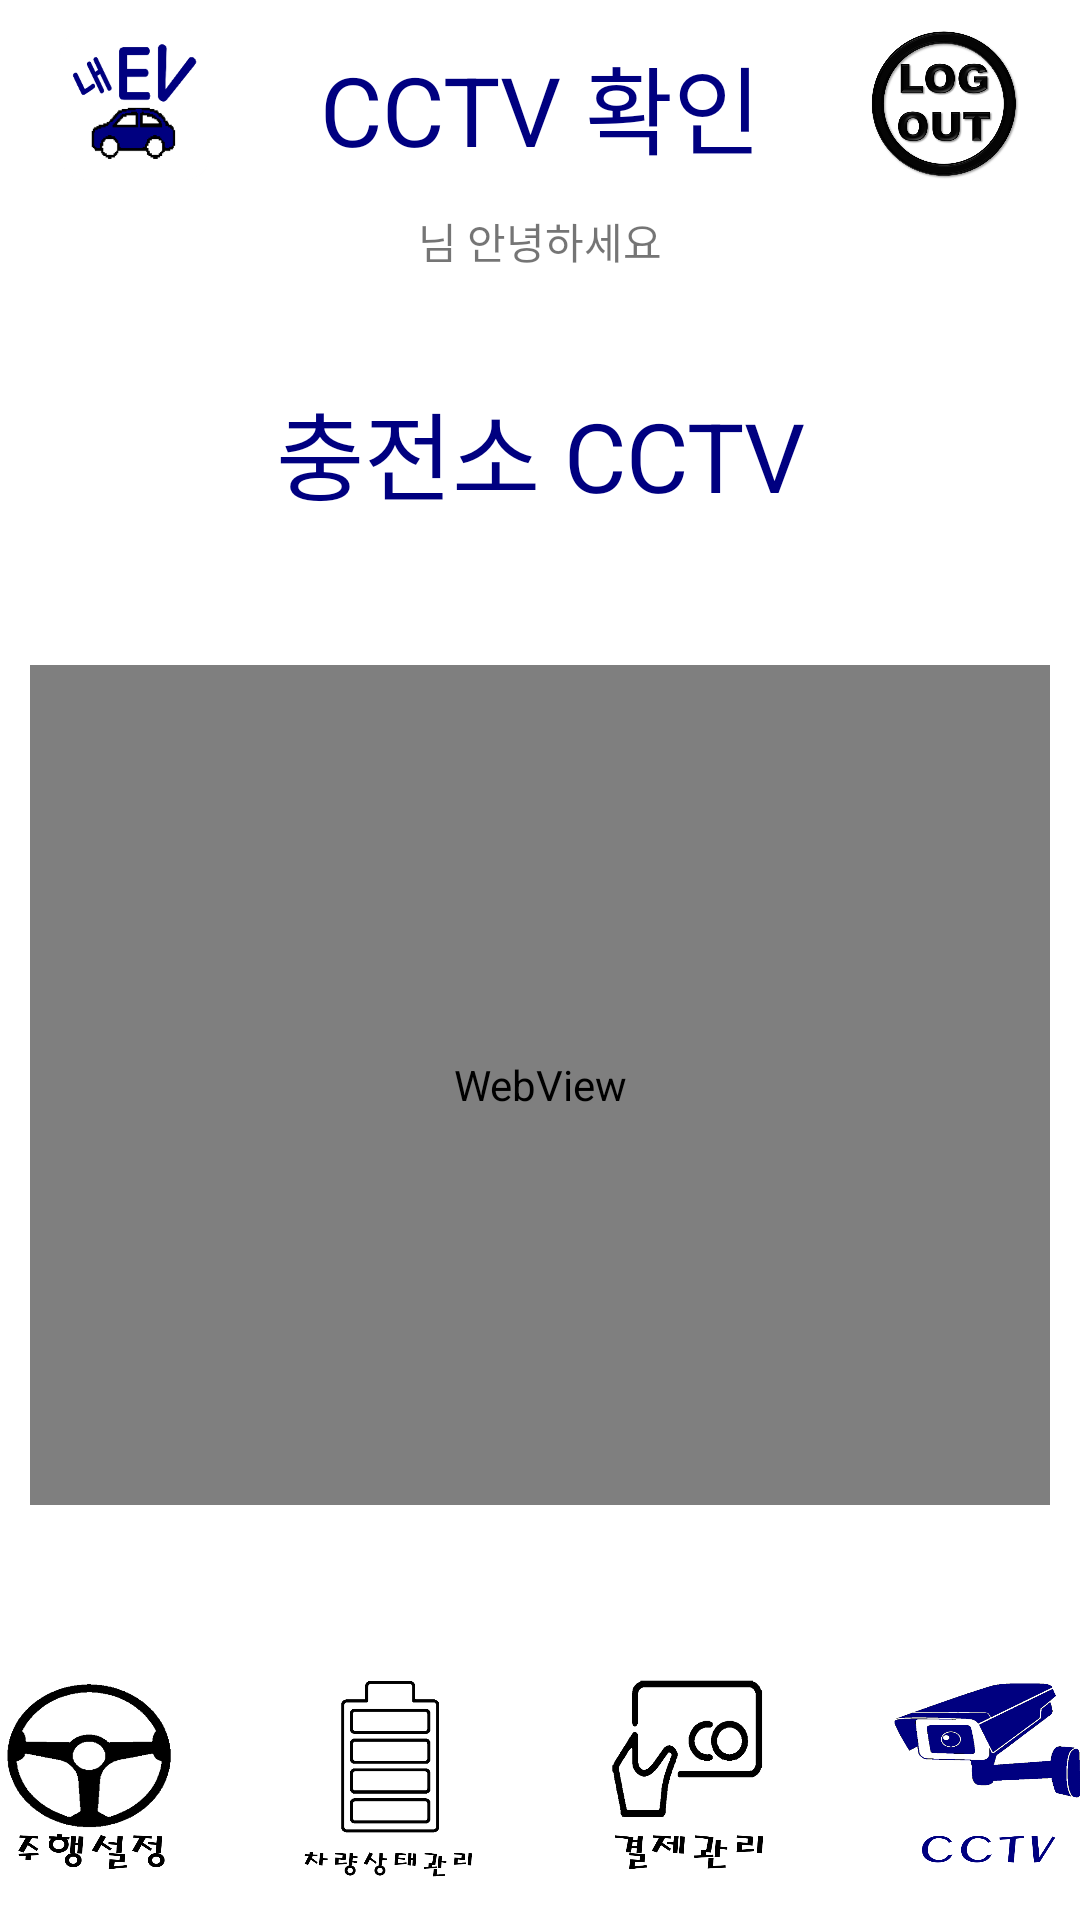

Named icons in this screenshot (1080px x 1920px) and their centers, (x=x, y=y):
battery: (x=388, y=1779)
cash: (x=687, y=1774)
